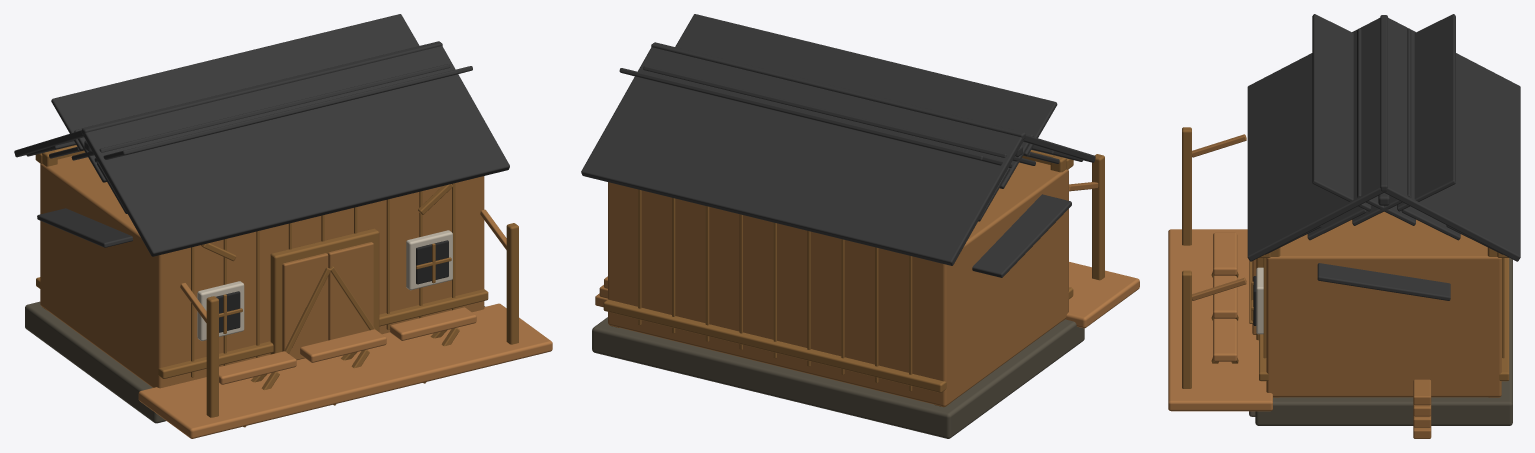
Rendered from carpenter-workshop.glb.
3 views of the same model, side by side, from view 1: azimuth 30°, elevation 25°; view 2: azimuth 150°, elevation 25°; view 3: azimuth 270°, elevation 25° (orthographic). The views are drawn at different scales.
Visible parts, largest first — view 1: carpenter-workshop-farm-roof-slate, carpenter-workshop-farm-wood, carpenter-workshop-farm-wood-light, carpenter-workshop-farm-wood-dark, carpenter-workshop-farm-stone-dark, carpenter-workshop-farm-trim, carpenter-workshop-farm-window; view 2: carpenter-workshop-farm-roof-slate, carpenter-workshop-farm-wood, carpenter-workshop-farm-stone-dark, carpenter-workshop-farm-wood-dark, carpenter-workshop-farm-wood-light; view 3: carpenter-workshop-farm-roof-slate, carpenter-workshop-farm-wood, carpenter-workshop-farm-wood-light, carpenter-workshop-farm-stone-dark, carpenter-workshop-farm-wood-dark, carpenter-workshop-farm-trim.
Boxes of the visible parts, bbox=[...] form: carpenter-workshop-farm-roof-slate: bbox=[14, 14, 509, 256]; carpenter-workshop-farm-wood: bbox=[40, 156, 506, 388]; carpenter-workshop-farm-wood-light: bbox=[138, 303, 552, 438]; carpenter-workshop-farm-wood-dark: bbox=[35, 145, 518, 427]; carpenter-workshop-farm-stone-dark: bbox=[25, 301, 484, 423]; carpenter-workshop-farm-trim: bbox=[197, 230, 452, 340]; carpenter-workshop-farm-window: bbox=[216, 240, 448, 332]; carpenter-workshop-farm-roof-slate: bbox=[581, 14, 1095, 277]; carpenter-workshop-farm-wood: bbox=[595, 161, 1098, 406]; carpenter-workshop-farm-stone-dark: bbox=[592, 317, 1084, 438]; carpenter-workshop-farm-wood-dark: bbox=[603, 150, 1104, 407]; carpenter-workshop-farm-wood-light: bbox=[1065, 262, 1139, 328]; carpenter-workshop-farm-roof-slate: bbox=[1247, 14, 1520, 300]; carpenter-workshop-farm-wood: bbox=[1192, 134, 1501, 438]; carpenter-workshop-farm-wood-light: bbox=[1168, 229, 1272, 411]; carpenter-workshop-farm-stone-dark: bbox=[1255, 258, 1512, 425]; carpenter-workshop-farm-wood-dark: bbox=[1182, 127, 1509, 397]; carpenter-workshop-farm-trim: bbox=[1256, 267, 1263, 334].
Bounding box in the file's own units: 7.16 × 4.3 × 5.54.
